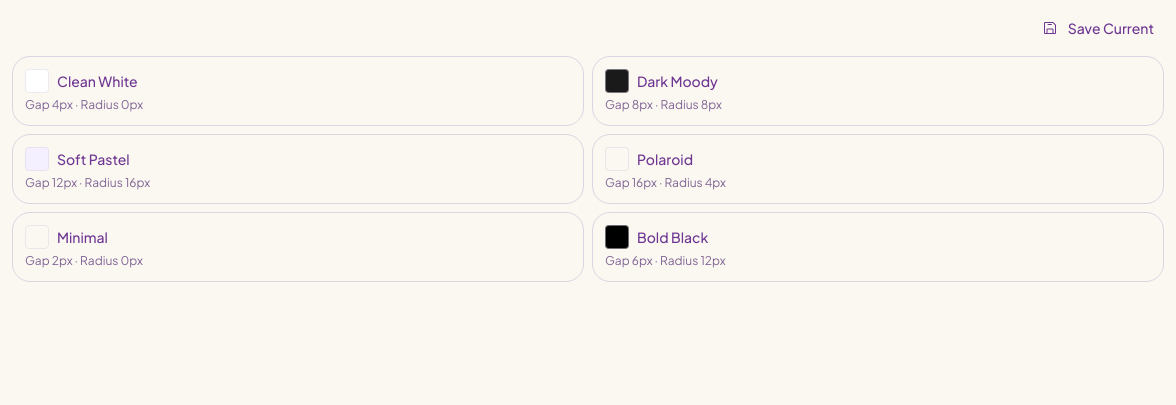
Test: PresetGallery › can save a custom preset
Click the button "Save Current".
click(1098, 28)  # box x1=1032 y1=12 x2=1164 y2=44
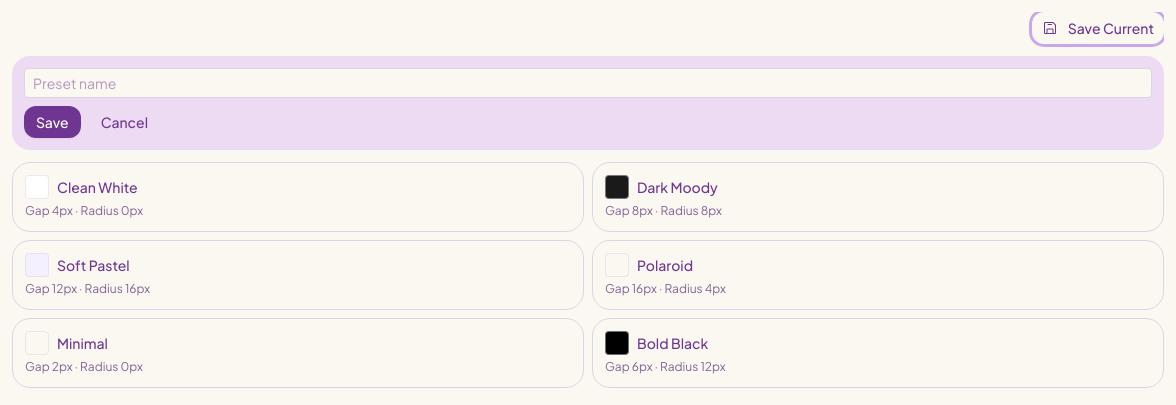
Type "My Custom" into the field with placeholder "Preset name".
click(588, 83); type("My Custom")  # box x1=24 y1=68 x2=1152 y2=98
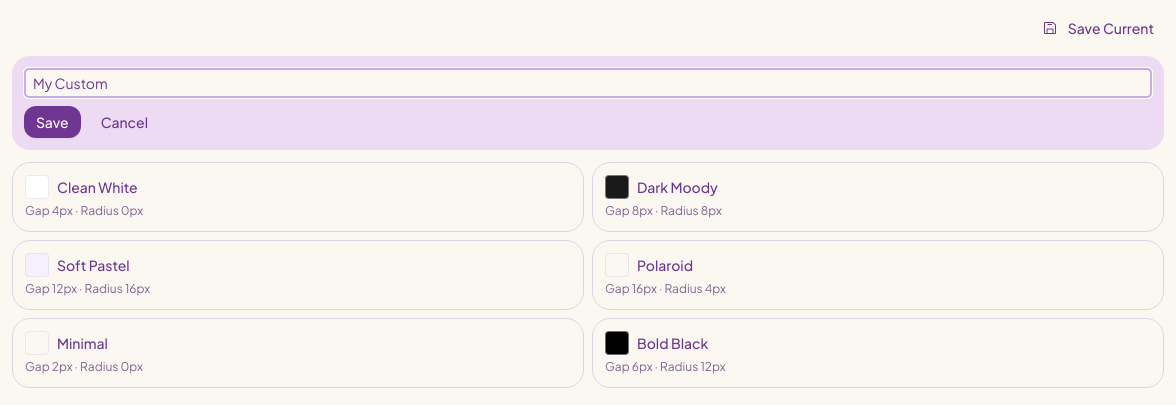
Click the button "Save".
click(52, 122)  # box x1=24 y1=106 x2=81 y2=138
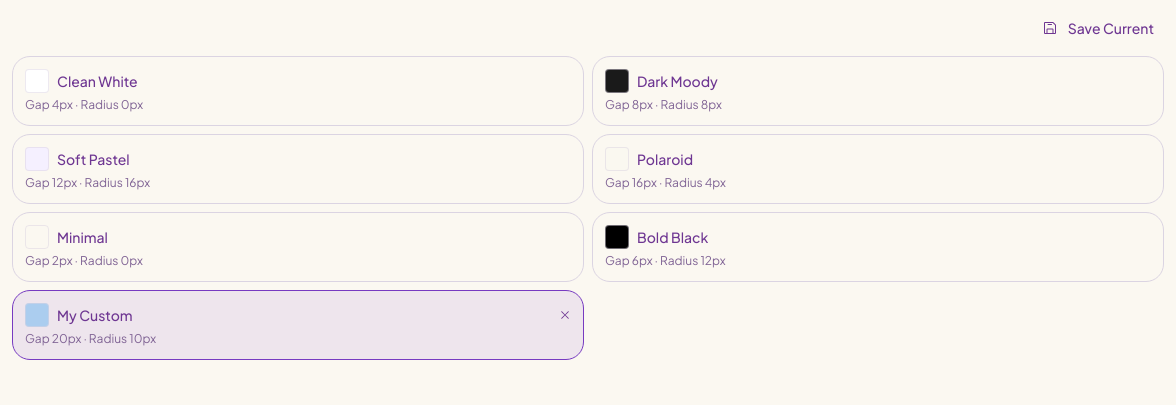
Check: the text "My Custom" is shown, box x1=57 y1=305 x2=133 y2=325
